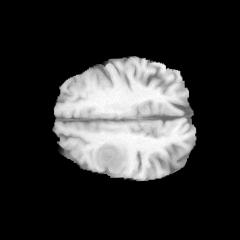glioma: (93, 142, 127, 174)
